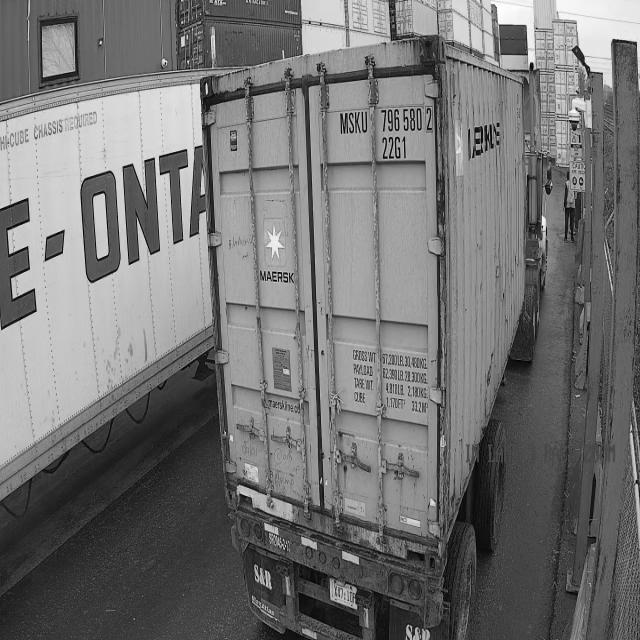container_company_logo: (243, 199, 304, 306)
container_number: (335, 98, 431, 457)
driver: (545, 173, 564, 248)
license_plate: (319, 576, 368, 616)
truck_without_container: (200, 36, 550, 639)
